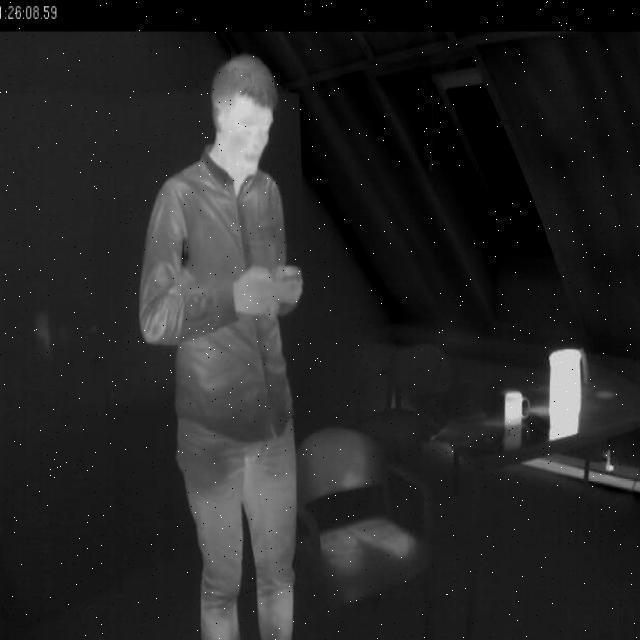person: (134, 45, 313, 640)
